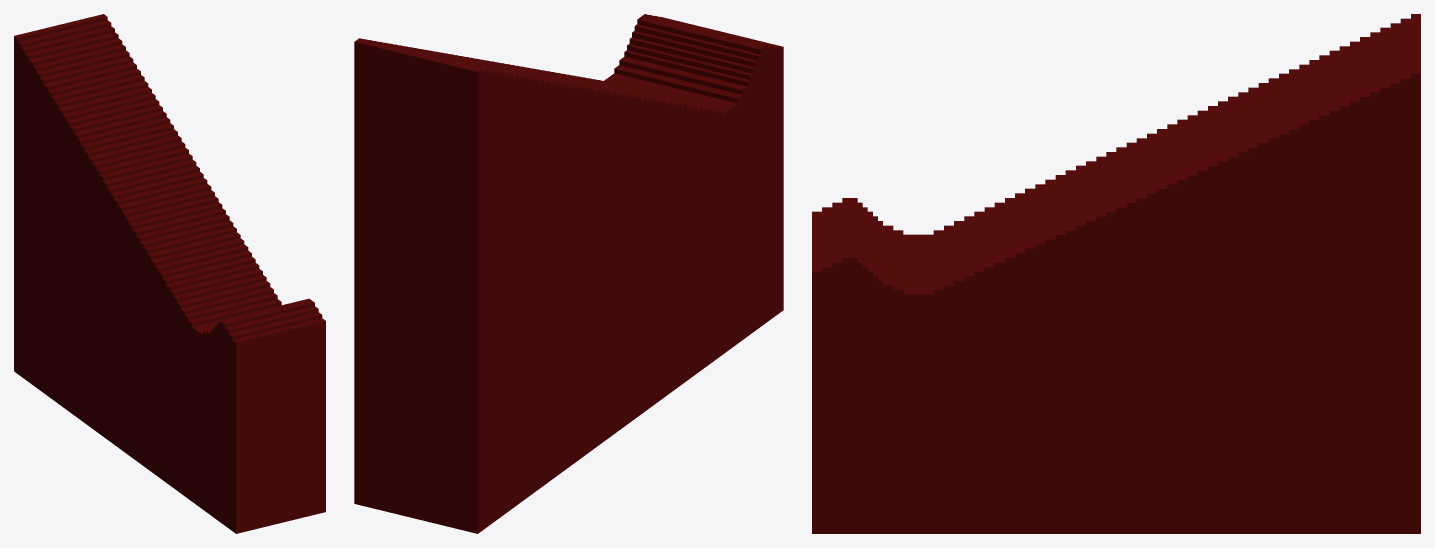
File: Road3.obj
3 renders of one model, left to right at view 1: azimuth 30°, elevation 25°; view 2: azimuth 150°, elevation 25°; view 3: azimuth 270°, elevation 25°, orthographic. The views are drawn at different scales.
Bounding box in the file's own units: 2.8 × 10 × 12.
Materials: 1 (1 with a texture image).
